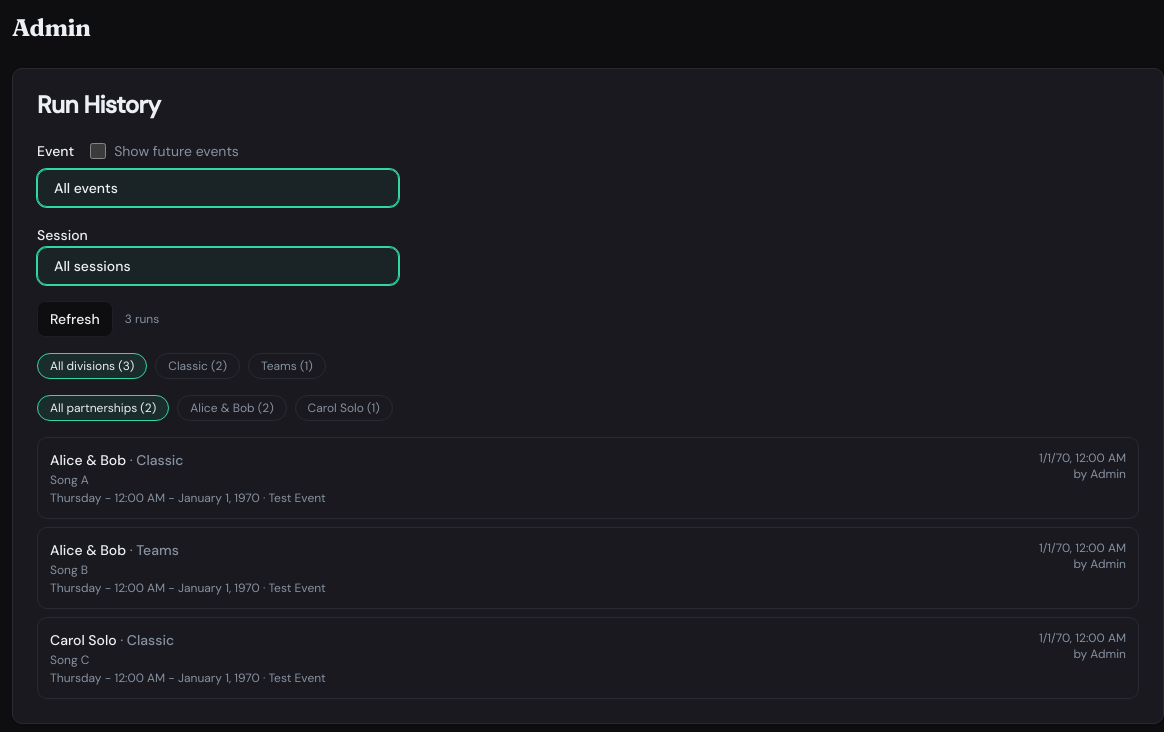
AdminPage › shows partnership breakdown chips and combined filter empty state
The image size is (1164, 732).
Expected: the button "All partnerships (2)" is shown, [37,395,169,421]
Expected: the button "Alice & Bob (2)" is shown, [177,395,287,421]
Click the button "Teams (1)": (287, 366) [248,353,326,379]
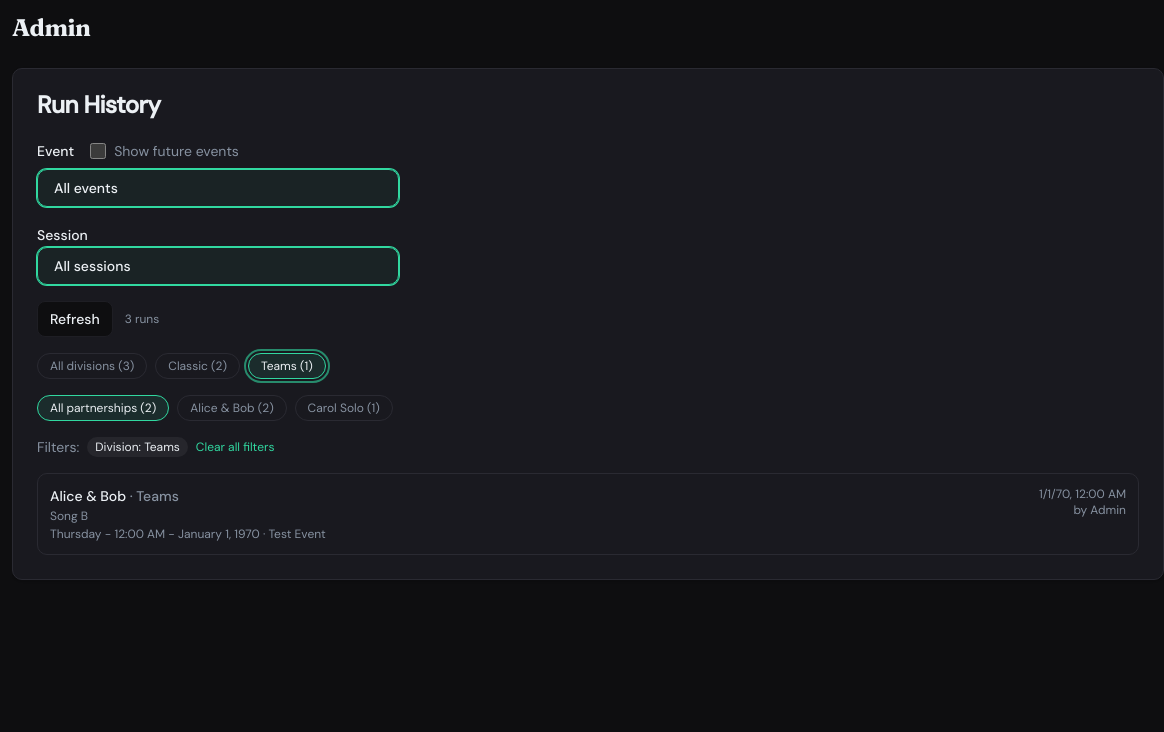
Click the button "Carol Solo (1)": (344, 408) [295,395,393,421]
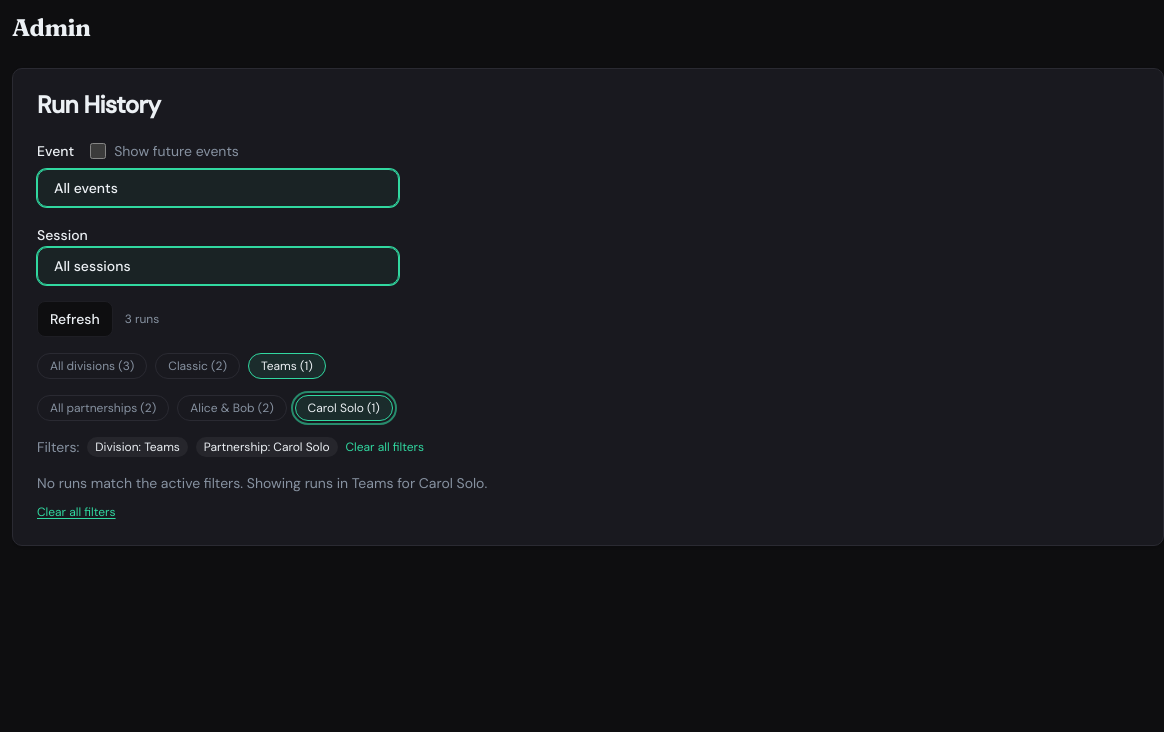
Now the text "No runs match the active filters" is shown, box [37,474,487,492]
